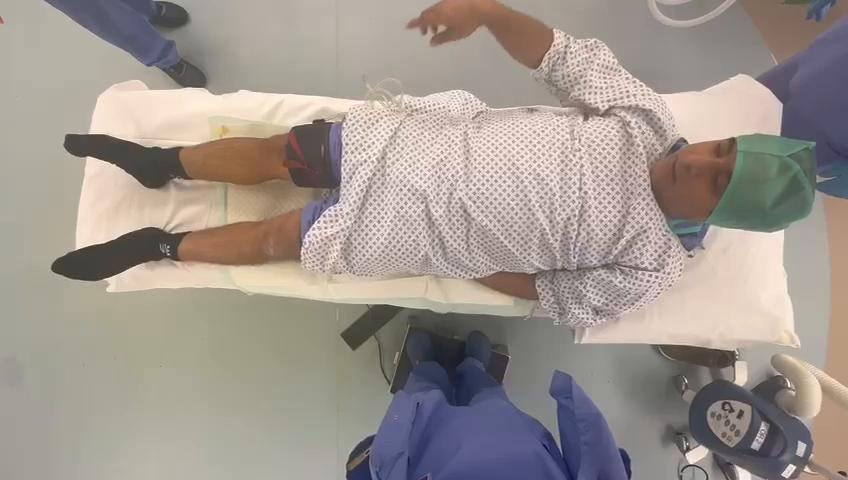bed: (53, 76, 815, 349)
patient: (53, 2, 813, 325)
tourniquet: (283, 119, 340, 188)
